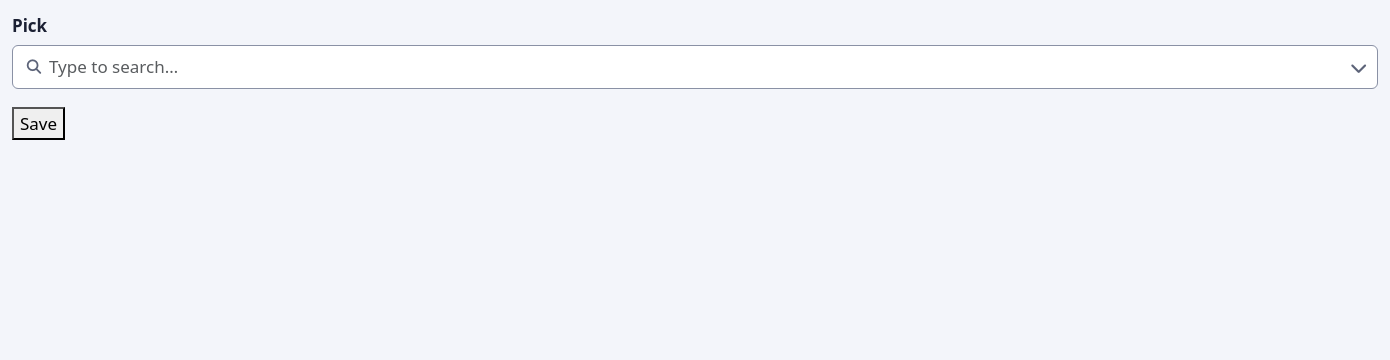
Test: filters by name or description
The width and height of the screenshot is (1390, 360).
Later steps or results of the test are not shown.
Click the dropdown labelled "Pick".
click(695, 67)  # box [12, 45, 1378, 89]
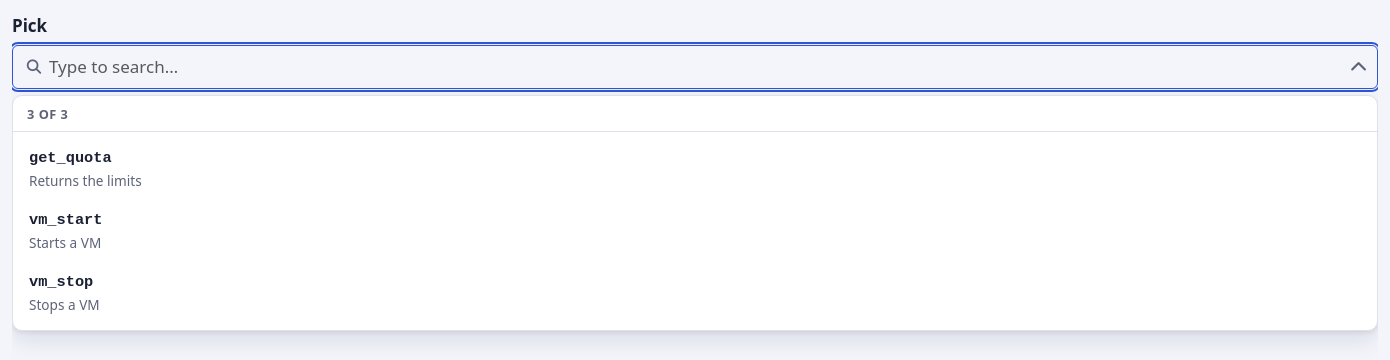
Check: the text "3 of 3" is shown, box [27, 104, 68, 125]
